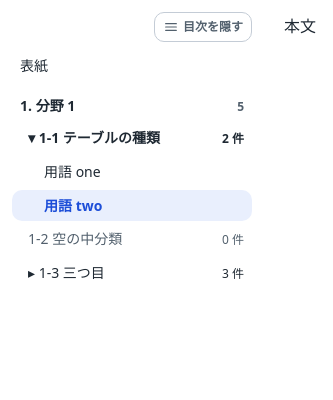
Test: NotebookShell › 中分類の行を押す_節を開閉する
What coordinates should you click on to do the following:
click the button "▸ 1-3 三つ目 3 件"
I would click on:
 (132, 273)
Its box is [12, 257, 252, 289].
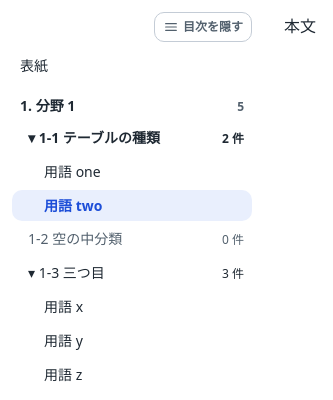
Expected: the number of links "用語 x" is 3, [44, 297, 83, 316]; [44, 331, 83, 350]; [44, 365, 82, 384]
What coordinates should you click on to do the following:
click the button "▾ 1-1 テーブルの種類 2 件"
I would click on:
 (132, 138)
Its box is [12, 122, 252, 154].
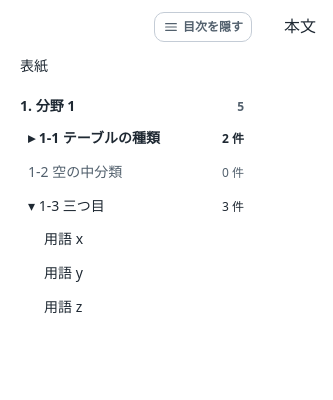
Expected: the link "用語 two" is gone
